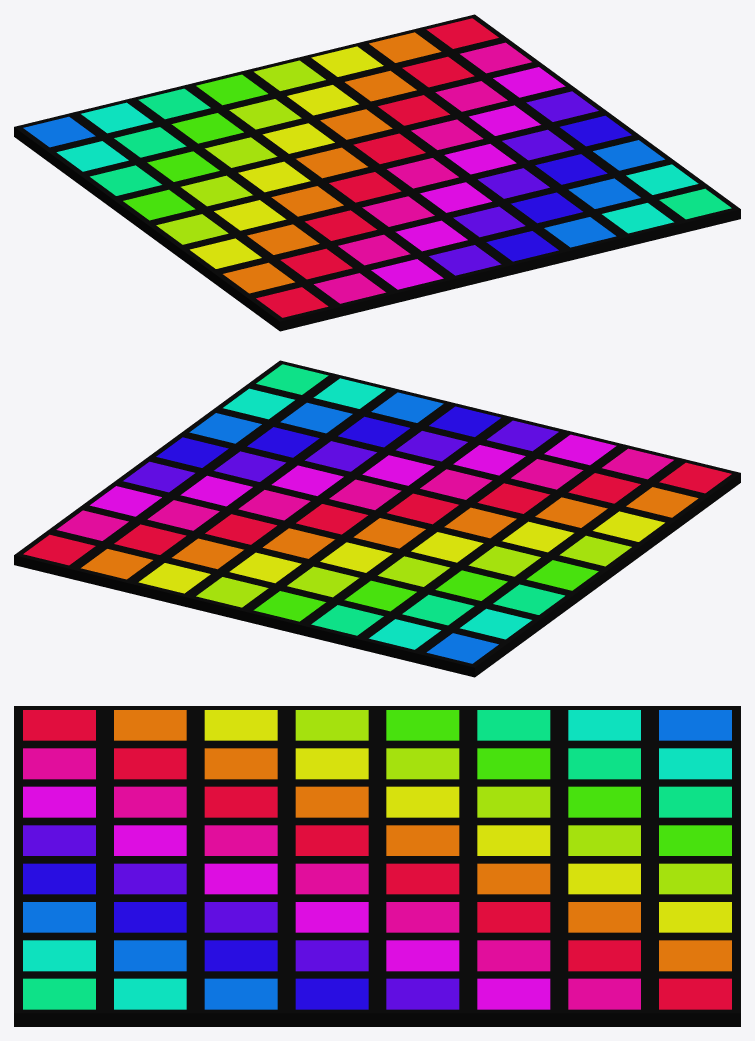
Rendered from disco_floor.fbx.
The picture shows the model from 3 angles, top to bottom: view 1: azimuth 30°, elevation 25°; view 2: azimuth 150°, elevation 25°; view 3: azimuth 270°, elevation 25°; orthographic projection. The views are drawn at different scales.
Visible parts, largest first — view 1: Plane.001; view 2: Plane.001; view 3: Plane.001.
Boxes of the visible parts, left/top/right/bottom form: Plane.001: left=14, top=14, right=740, bottom=331; Plane.001: left=14, top=360, right=740, bottom=677; Plane.001: left=14, top=706, right=740, bottom=1026.
Size of the model in its own units: 3.06 by 3.06 by 0.0624.
